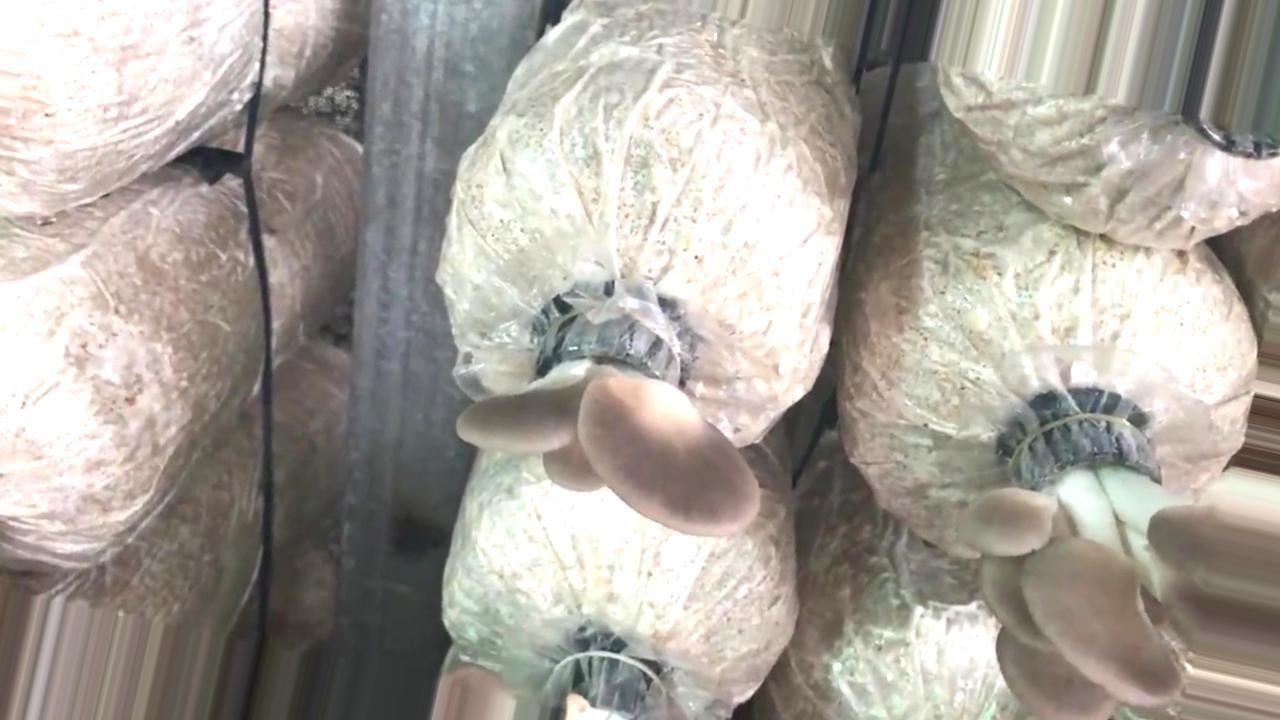nam: (957, 402, 1280, 719), (455, 296, 761, 545)
